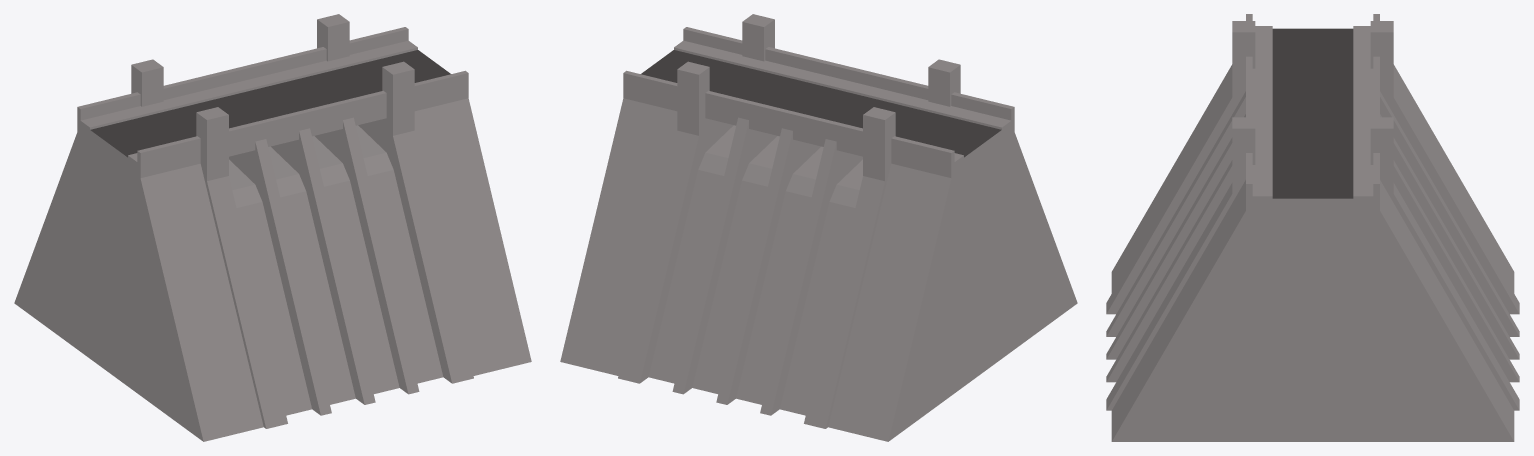
Rendered from dam.glb.
The picture shows the model from 3 angles, left to right: view 1: azimuth 30°, elevation 25°; view 2: azimuth 150°, elevation 25°; view 3: azimuth 270°, elevation 25°; orthographic projection. The views are drawn at different scales.
Visible parts, largest first — view 1: dam; view 2: dam; view 3: dam.
Part boxes in pixels (x1,y1,x2,y2): dam: (14, 14, 531, 441); dam: (560, 14, 1077, 441); dam: (1106, 14, 1519, 441).
Bounding box in the file's own units: 30 × 23.2 × 30.8.
Materials: 1 (1 with a texture image).
